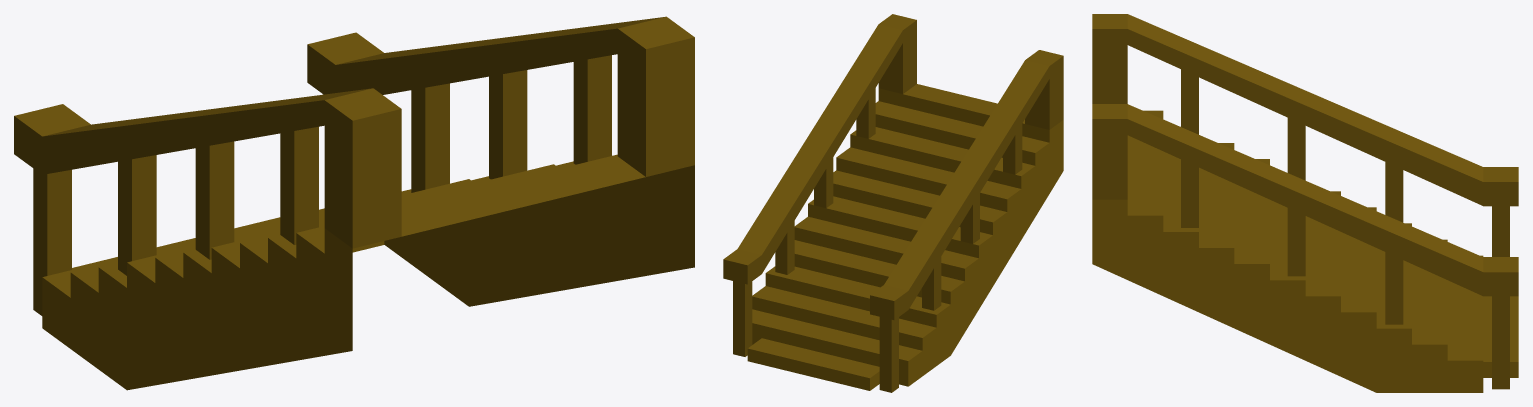
Rendered from obj_staircase_7_0.obj.
3 renders of one model, left to right at view 1: azimuth 30°, elevation 25°; view 2: azimuth 150°, elevation 25°; view 3: azimuth 270°, elevation 25°, orthographic. The views are drawn at different scales.
Size of the model in its own units: 1.75 by 2.12 by 3.
